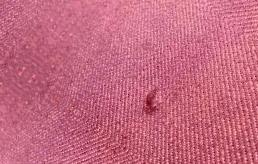knot: (144, 87, 162, 115)
